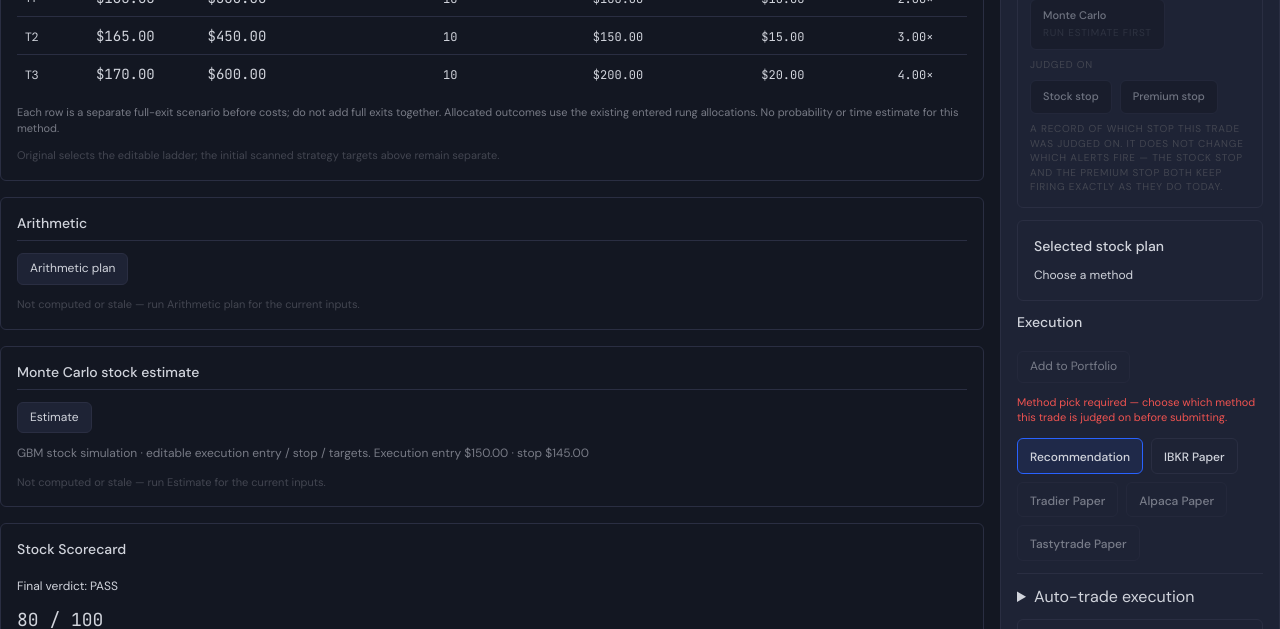
Test: preserves fractional medians, returned Arithmetic reward, caveats and distinct probability definitions
The width and height of the screenshot is (1280, 629).
(page scrolled)
Click the button "Arithmetic plan".
click(73, 269)  # box [17,253,128,285]
(page scrolled)
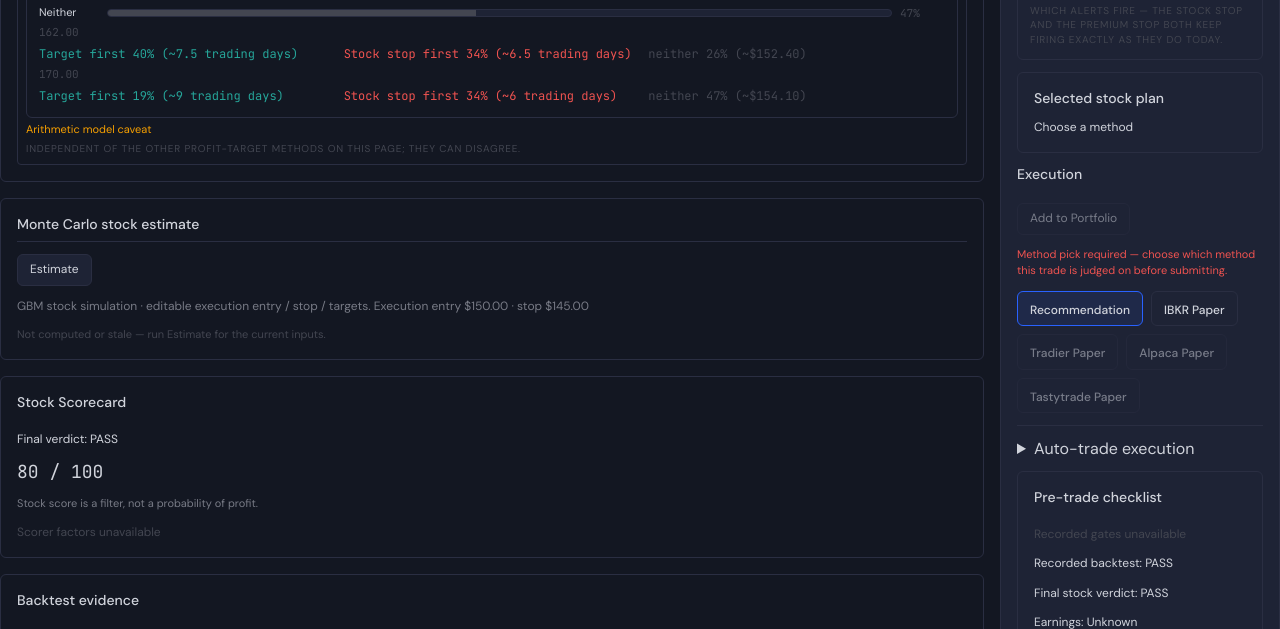
Check: the text "Target first 40% (~7.5 trading days)" is shown, box [39,47,336,63]
Check: the text "Arithmetic model caveat" is shown, box [26,122,152,136]
Click the button "Estimate".
click(54, 270)  # box [17,254,92,286]
(page scrolled)
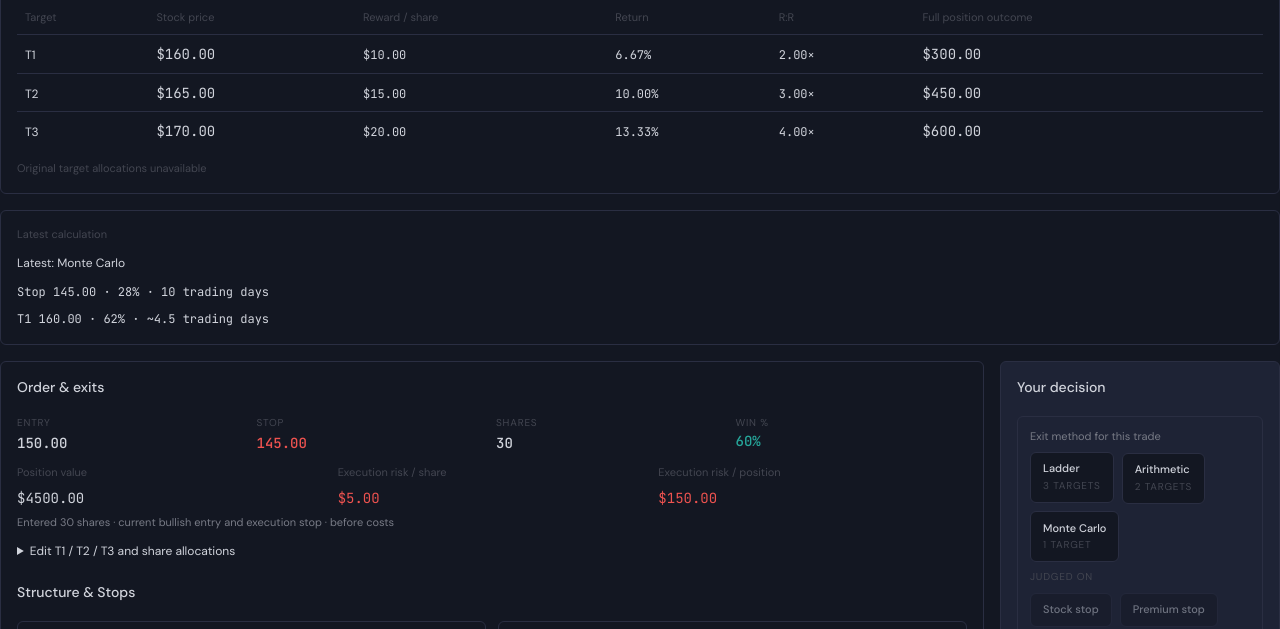
Check: the text "Latest: Monte Carlo" is shown, box [17,255,125,271]
Check: the element "Latest calculation" shows "~4.5 trading days", box [125,311,269,327]
